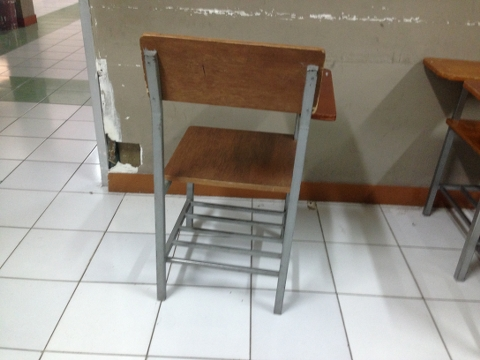kursi: (140, 32, 336, 314)
